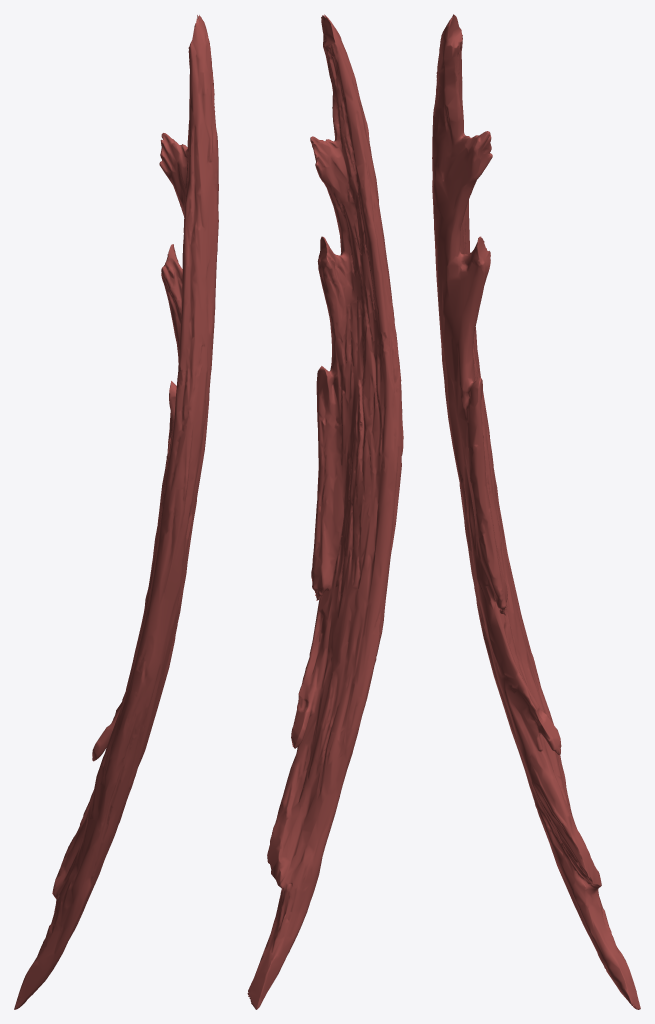
File: FMA46285.glb
The picture shows the model from 3 angles, left to right: view 1: azimuth 90°, elevation 25°; view 2: azimuth 150°, elevation 25°; view 3: azimuth 270°, elevation 25°; orthographic projection. The views are drawn at different scales.
Visible parts, largest first — view 1: FMA46285; view 2: FMA46285; view 3: FMA46285.
Boxes of the visible parts, left/top/right/bottom form: FMA46285: left=14, top=15, right=218, bottom=1009; FMA46285: left=247, top=14, right=403, bottom=1009; FMA46285: left=432, top=14, right=640, bottom=1009.
Size of the model in its own units: 0.0132 by 0.1287 by 0.0242.
